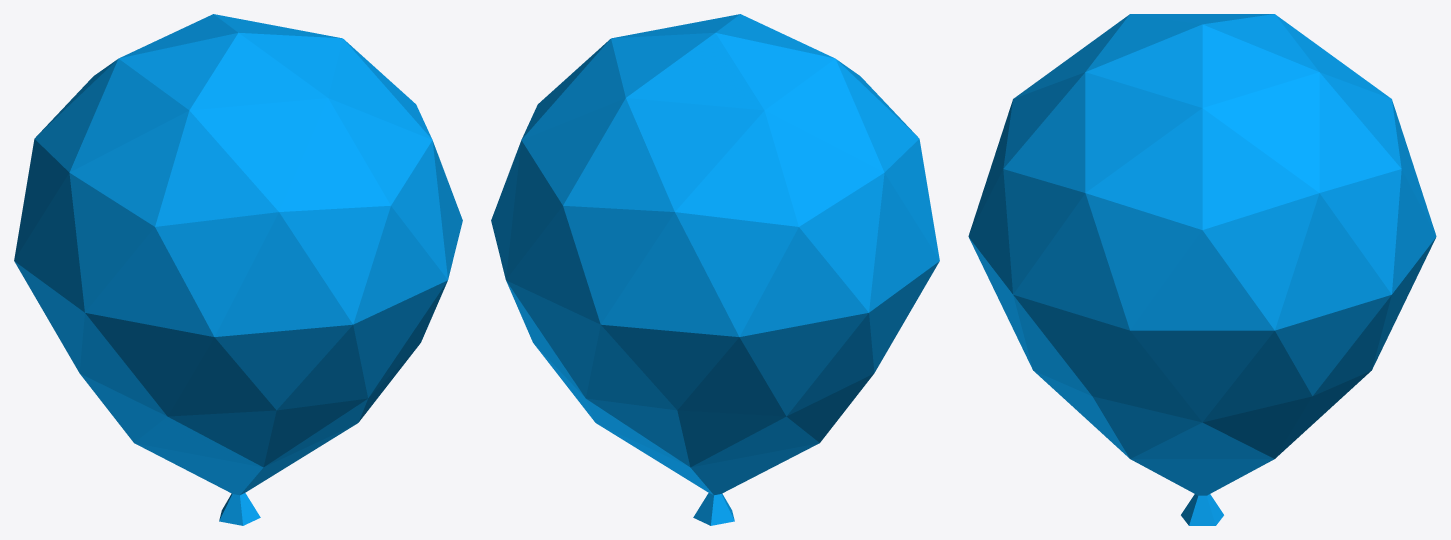
Rendered from item_water_balloon_blue.glb.
3 renders of one model, left to right at view 1: azimuth 30°, elevation 25°; view 2: azimuth 150°, elevation 25°; view 3: azimuth 270°, elevation 25°, orthographic. The views are drawn at different scales.
Visible parts, largest first — view 1: Balloon; view 2: Balloon; view 3: Balloon.
Part boxes in pixels (x1,y1,x2,y2): Balloon: (14, 14, 462, 525); Balloon: (491, 14, 939, 525); Balloon: (968, 14, 1436, 525).
Bounding box in the file's own units: 0.2703 × 0.3307 × 0.2842.
